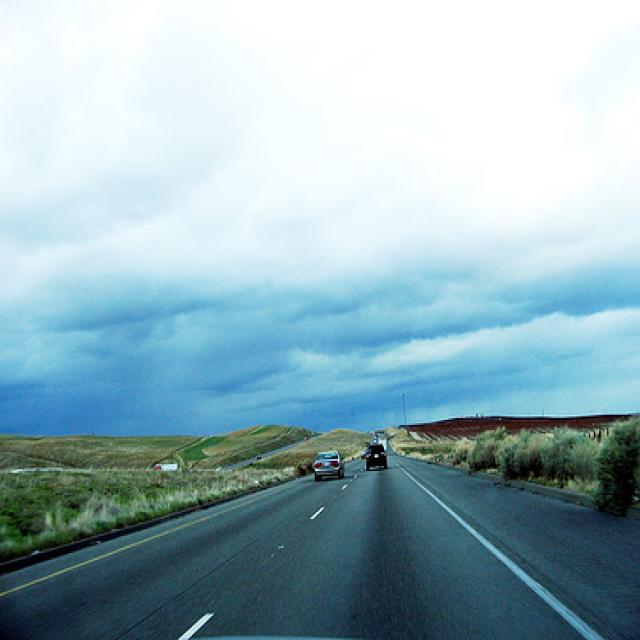car: (314, 450, 346, 480), (365, 443, 390, 472)
